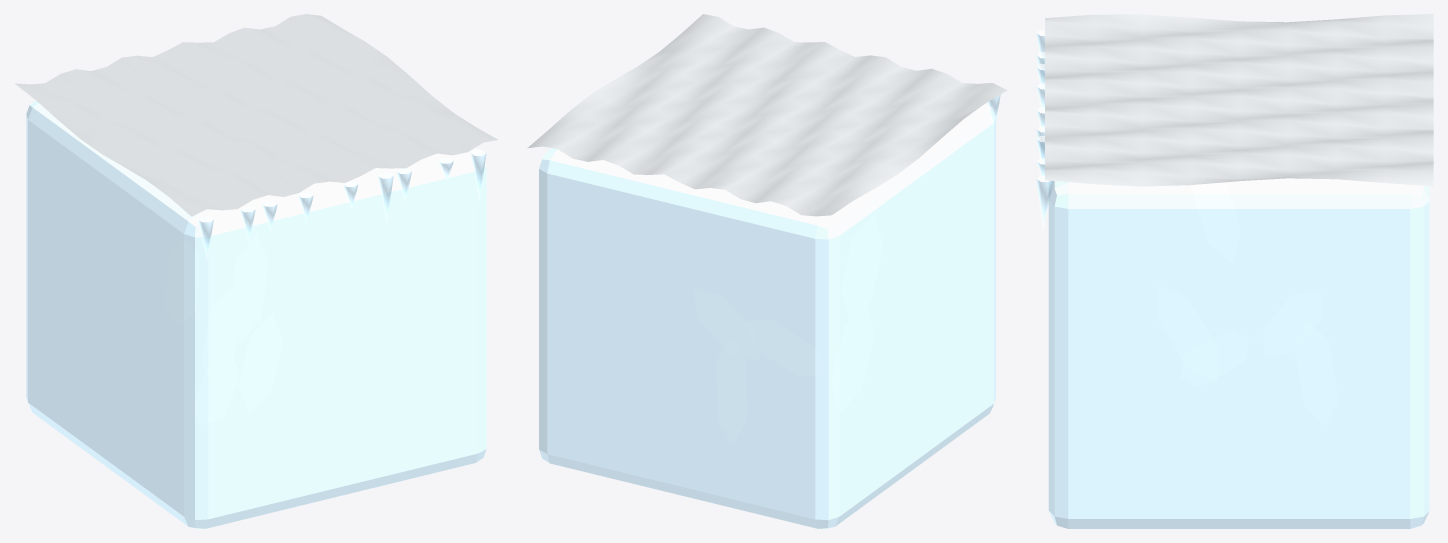
Rendered from block_c.glb.
The picture shows the model from 3 angles, left to right: view 1: azimuth 30°, elevation 25°; view 2: azimuth 150°, elevation 25°; view 3: azimuth 270°, elevation 25°; orthographic projection. The views are drawn at different scales.
Visible parts, largest first — view 1: block_c; view 2: block_c; view 3: block_c.
Boxes of the visible parts, x1,y1,x2,y2 form: block_c: [15, 14, 497, 528]; block_c: [527, 14, 1007, 528]; block_c: [1036, 14, 1433, 528].
Bounding box in the file's own units: 1 × 1.02 × 1.02.
